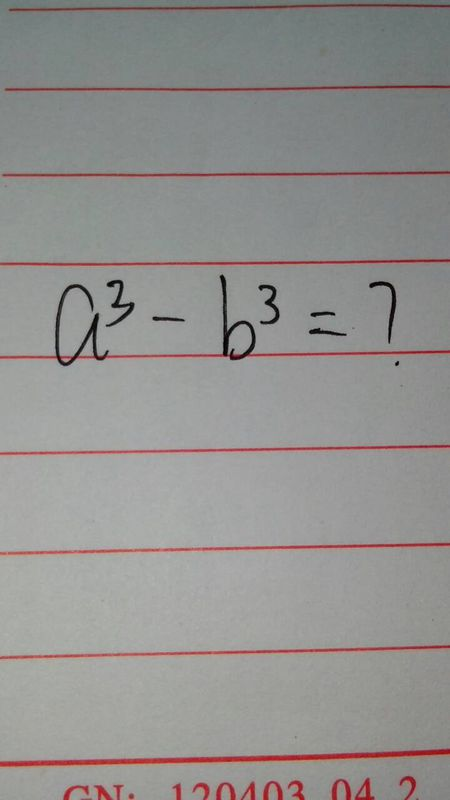cube: (105, 273, 135, 328), (253, 278, 282, 330)
